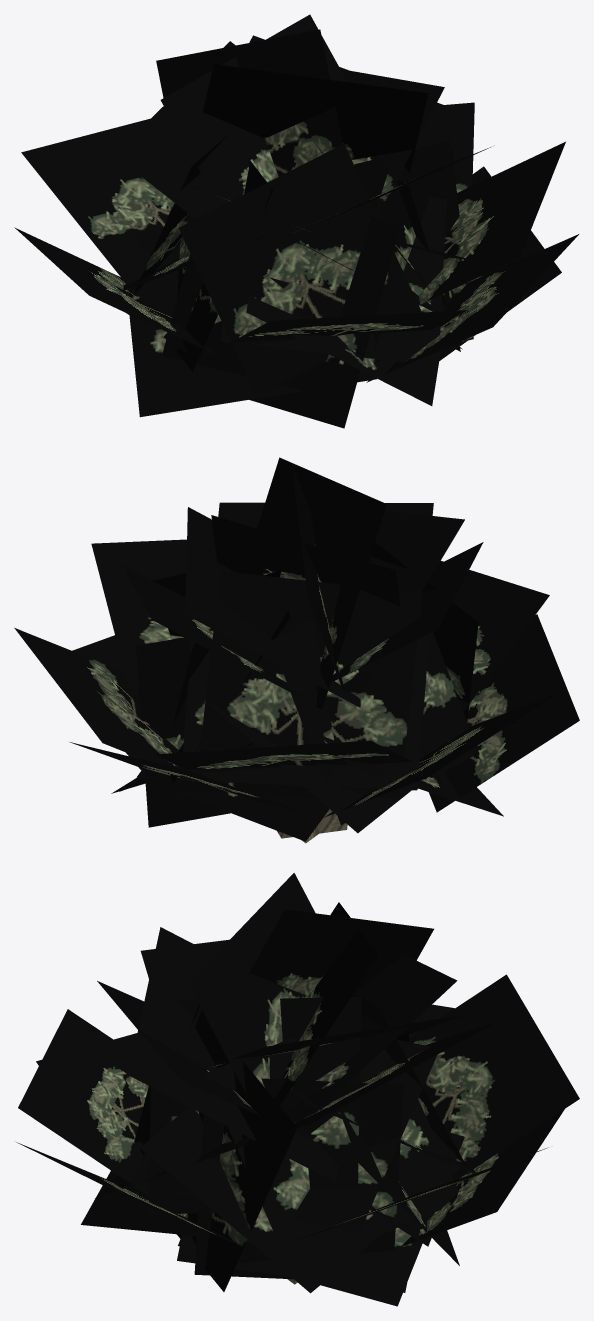
The model's file is heath-juniper-mobile.glb.
3 renders of one model, top to bottom at view 1: azimuth 30°, elevation 25°; view 2: azimuth 150°, elevation 25°; view 3: azimuth 270°, elevation 25°, orthographic. The views are drawn at different scales.
Parts seen in each view (by area): view 1: Heath juniper mobile v3 runtime; view 2: Heath juniper mobile v3 runtime; view 3: Heath juniper mobile v3 runtime.
Boxes of the visible parts, x1=… form: Heath juniper mobile v3 runtime: x1=14, y1=14, x2=578, y2=428; Heath juniper mobile v3 runtime: x1=14, y1=457, x2=579, y2=843; Heath juniper mobile v3 runtime: x1=16, y1=873, x2=579, y2=1306.
Bounding box in the file's own units: 4.59 × 3.24 × 4.61.
Materials: 1 (1 with a texture image).
